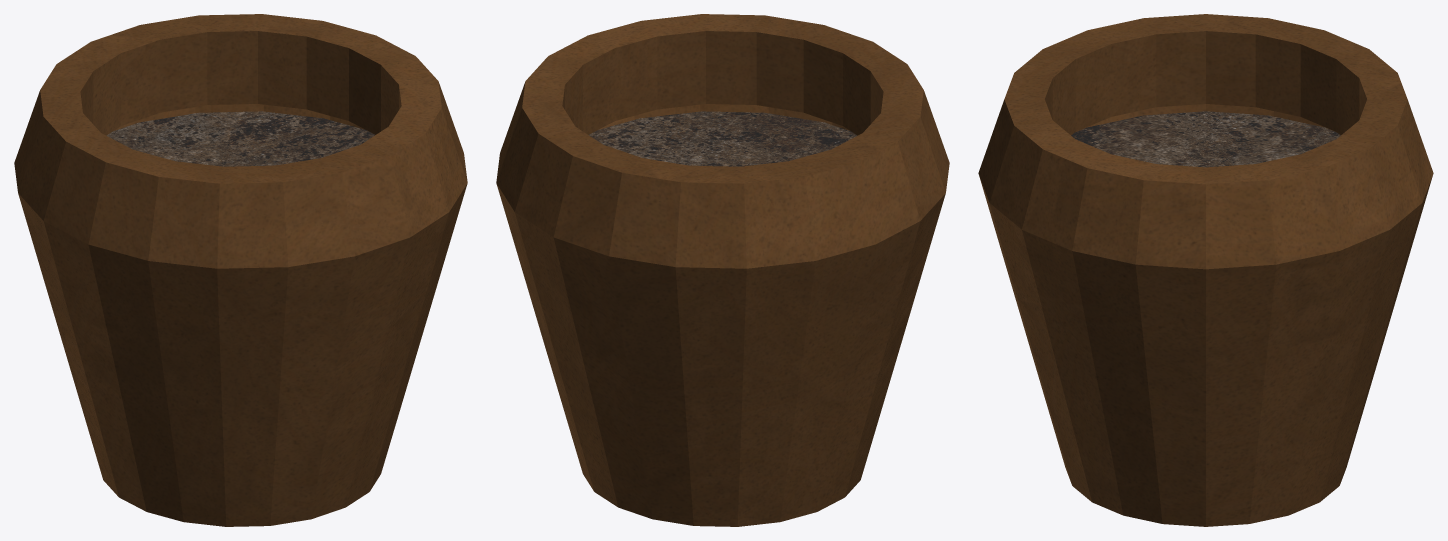
Rendered from flowerpot_textured.fbx.
3 renders of one model, left to right at view 1: azimuth 30°, elevation 25°; view 2: azimuth 150°, elevation 25°; view 3: azimuth 270°, elevation 25°, orthographic.
Visible parts, largest first — view 1: Circle, Circle.001; view 2: Circle, Circle.001; view 3: Circle, Circle.001.
Boxes of the visible parts, x1=… form: Circle: x1=14, y1=14, x2=467, y2=526; Circle.001: x1=106, y1=111, x2=374, y2=166; Circle: x1=496, y1=14, x2=949, y2=526; Circle.001: x1=589, y1=111, x2=857, y2=166; Circle: x1=978, y1=14, x2=1433, y2=526; Circle.001: x1=1071, y1=111, x2=1340, y2=167.
Size of the model in its own units: 112 by 100 by 112.
